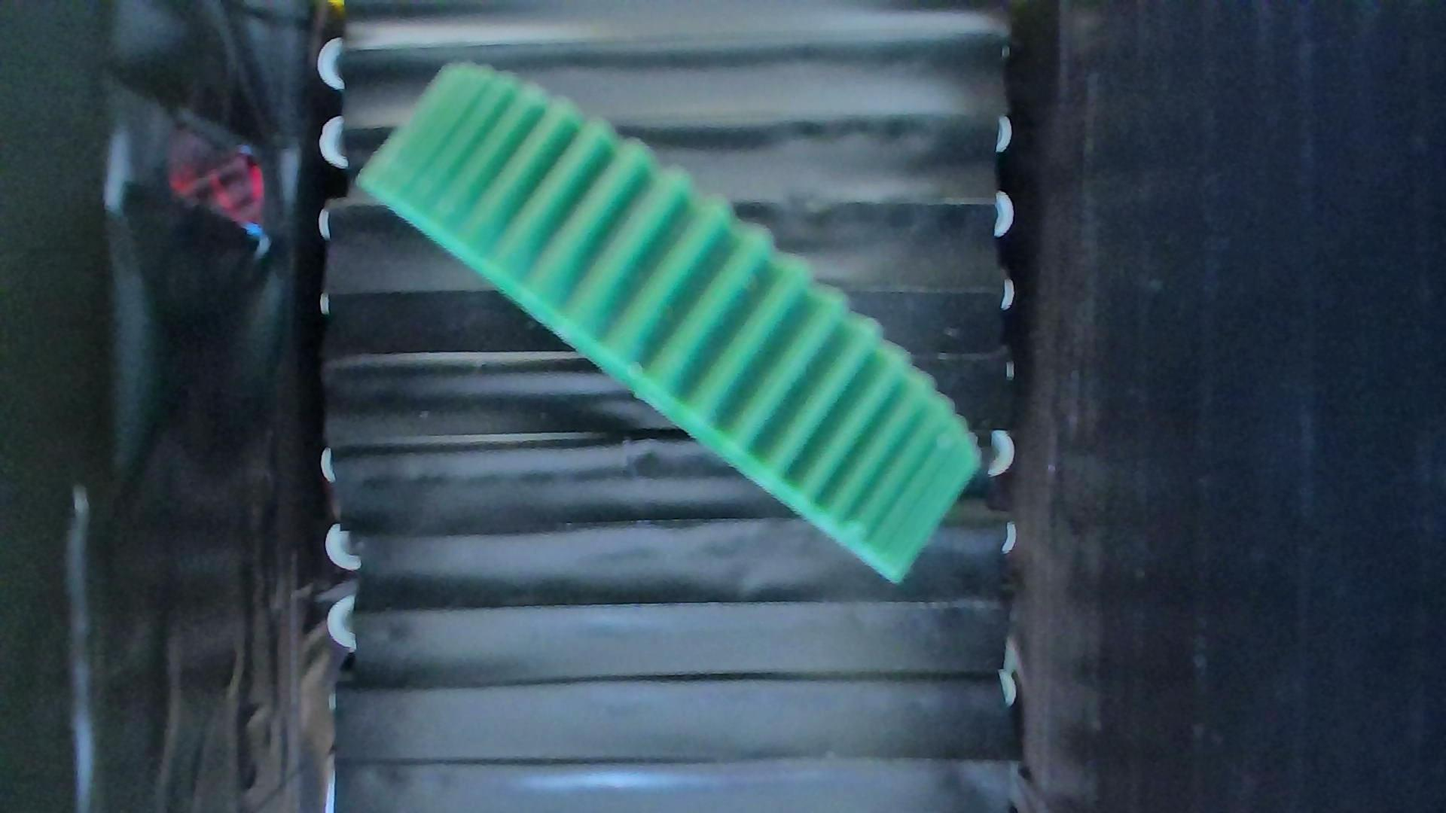gear: (354, 60, 982, 585)
